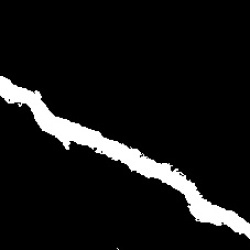crack: (1, 76, 249, 237)
